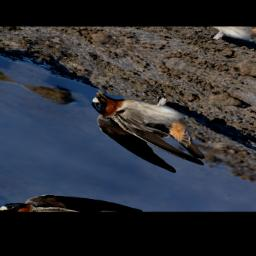Swallow: (60, 72, 245, 180)
